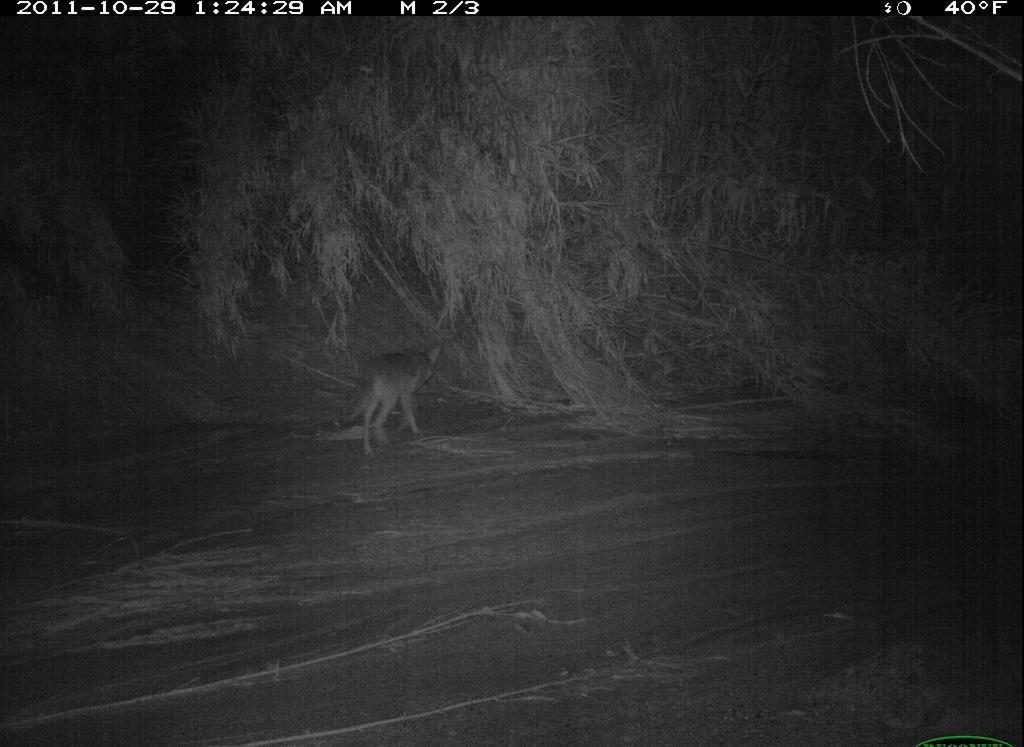coyote: (327, 327, 461, 465)
